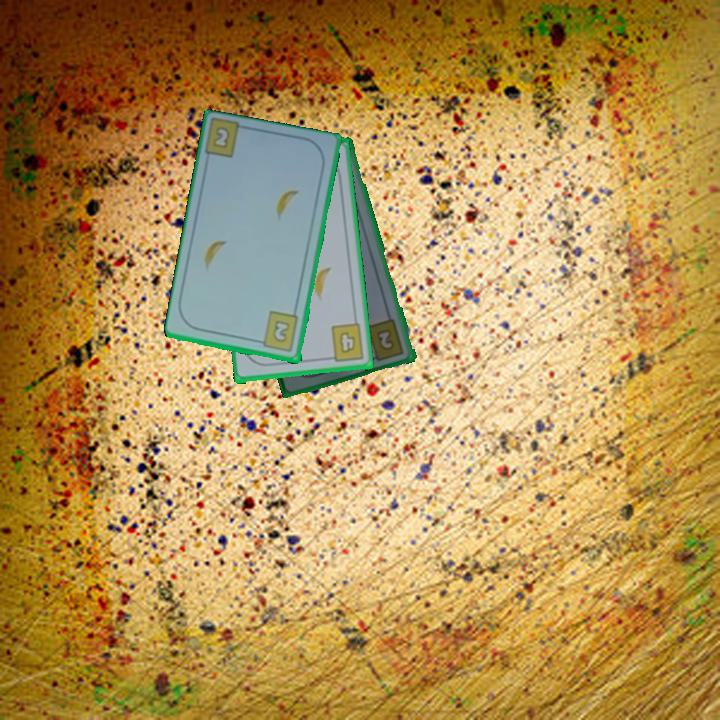2b: (254, 308, 301, 355), (364, 316, 407, 364), (209, 123, 233, 152)
4b: (323, 321, 367, 365)
